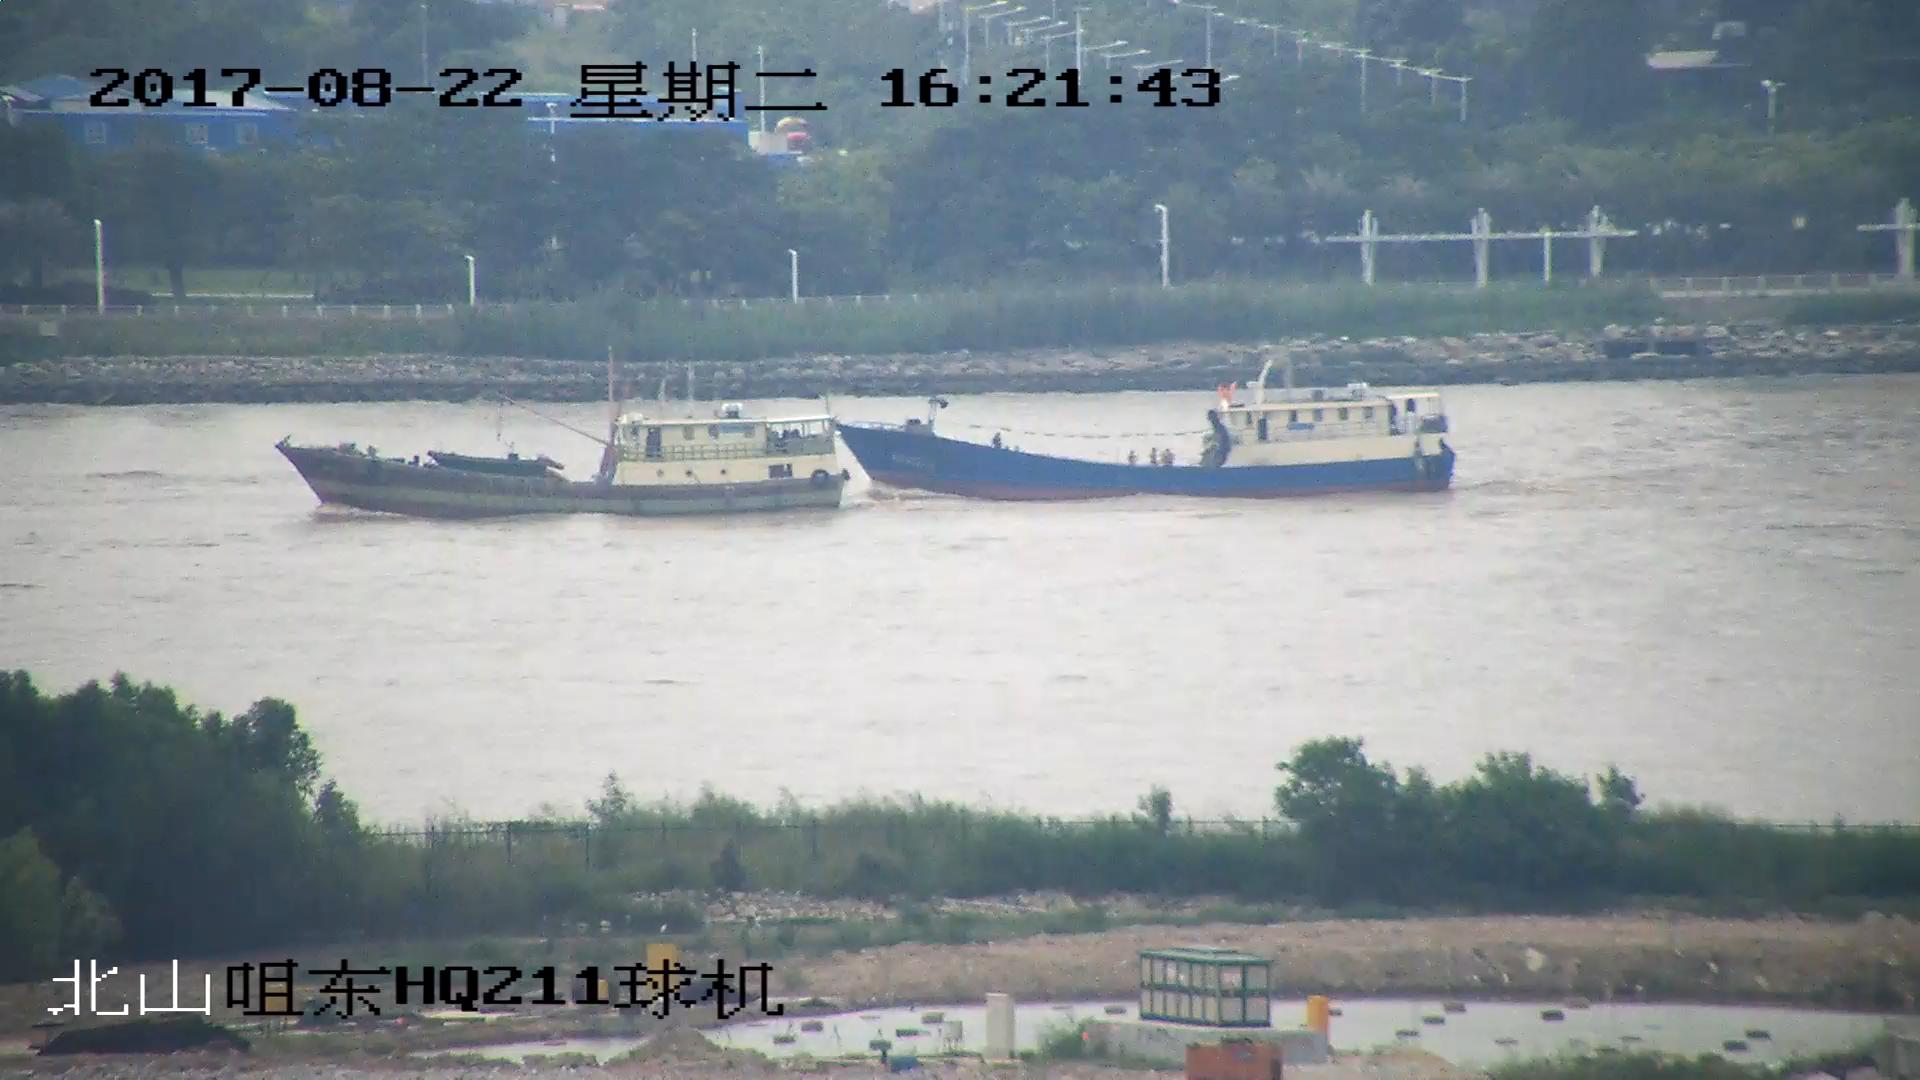fishing boat: (838, 358, 1453, 503), (280, 367, 851, 514)
